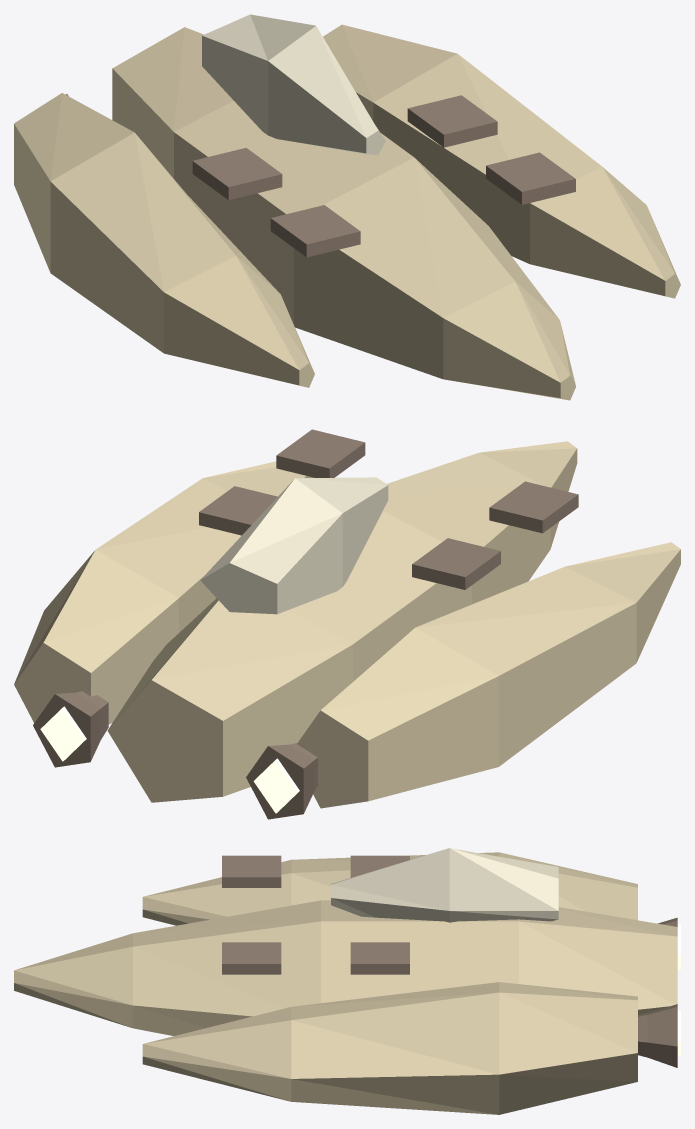
3 views of the same model, one above another, from view 1: azimuth 30°, elevation 25°; view 2: azimuth 150°, elevation 25°; view 3: azimuth 270°, elevation 25° (orthographic). The views are drawn at different scales.
Bounding box in the file's own units: 8.57 × 4.29 × 12.45.
